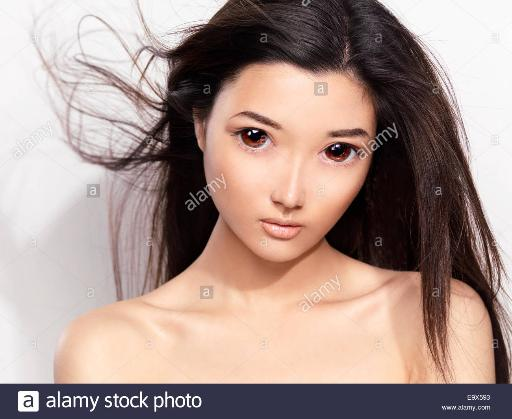left_eye: (319, 142, 368, 166)
left_lip_corner: (299, 224, 311, 233)
right_eye: (236, 127, 280, 152)
right_lip_corner: (257, 217, 269, 228)
